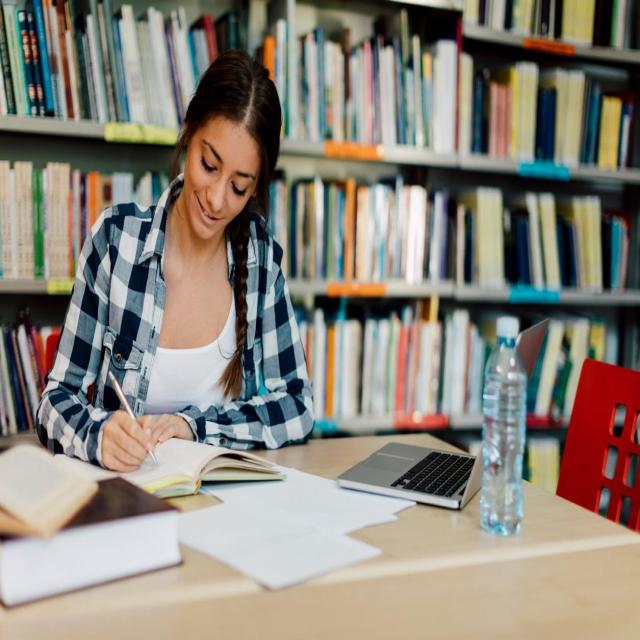person: (26, 35, 320, 463)
